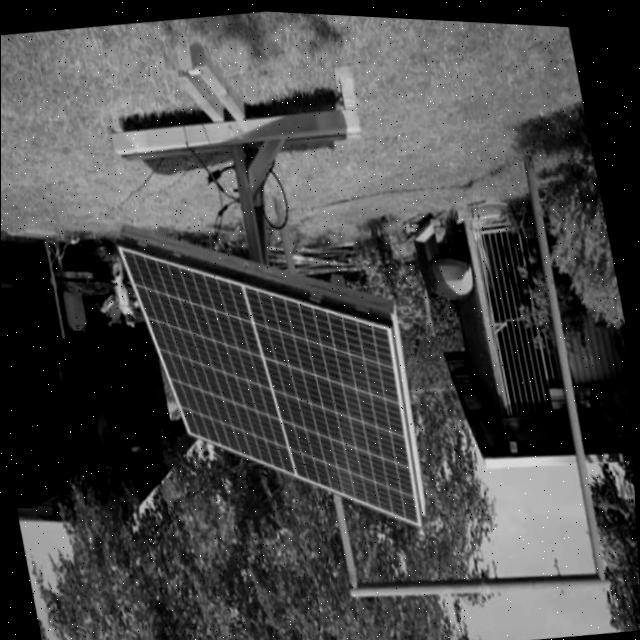Normal Solar Panel: (125, 214, 430, 552)
